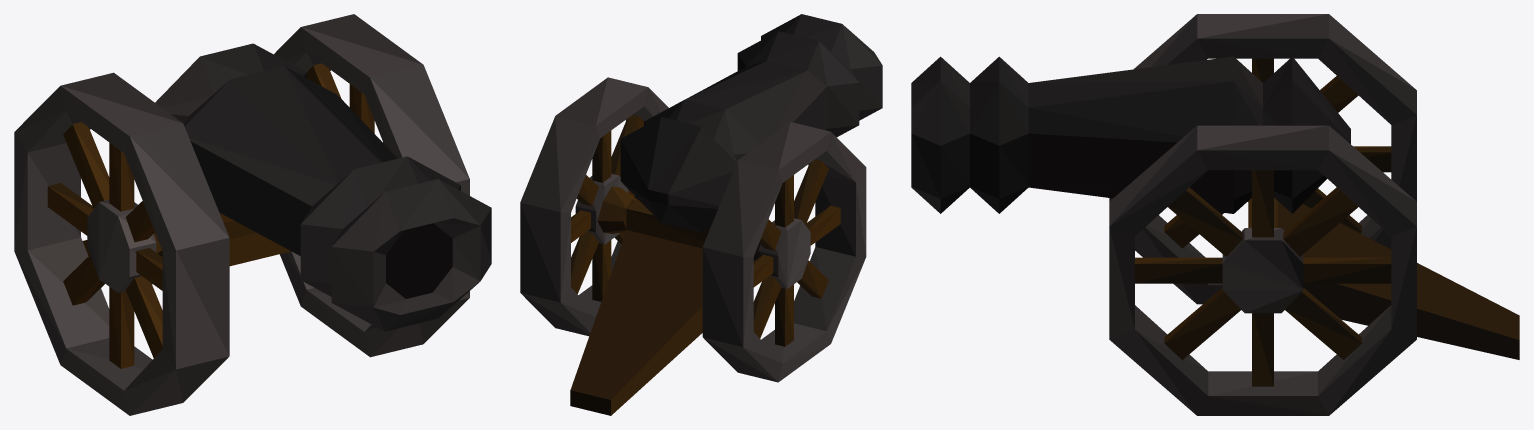
File: cannon.obj
The picture shows the model from 3 angles, left to right: view 1: azimuth 30°, elevation 25°; view 2: azimuth 150°, elevation 25°; view 3: azimuth 270°, elevation 25°; orthographic projection. The views are drawn at different scales.
Visible parts, largest first — view 1: Object Cannon 2026-09-21_11-30-55; view 2: Object Cannon 2026-09-21_11-30-55; view 3: Object Cannon 2026-09-21_11-30-55.
Part boxes in pixels (x1,y1,x2,y2): Object Cannon 2026-09-21_11-30-55: [14, 14, 491, 415]; Object Cannon 2026-09-21_11-30-55: [520, 14, 882, 415]; Object Cannon 2026-09-21_11-30-55: [911, 14, 1519, 415].
Size of the model in its own units: 88 by 84 by 166.
